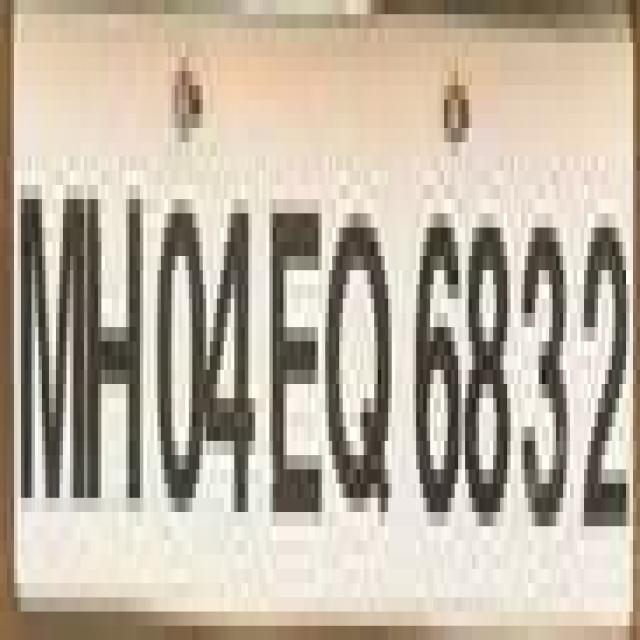license_plate: (24, 14, 640, 626)
